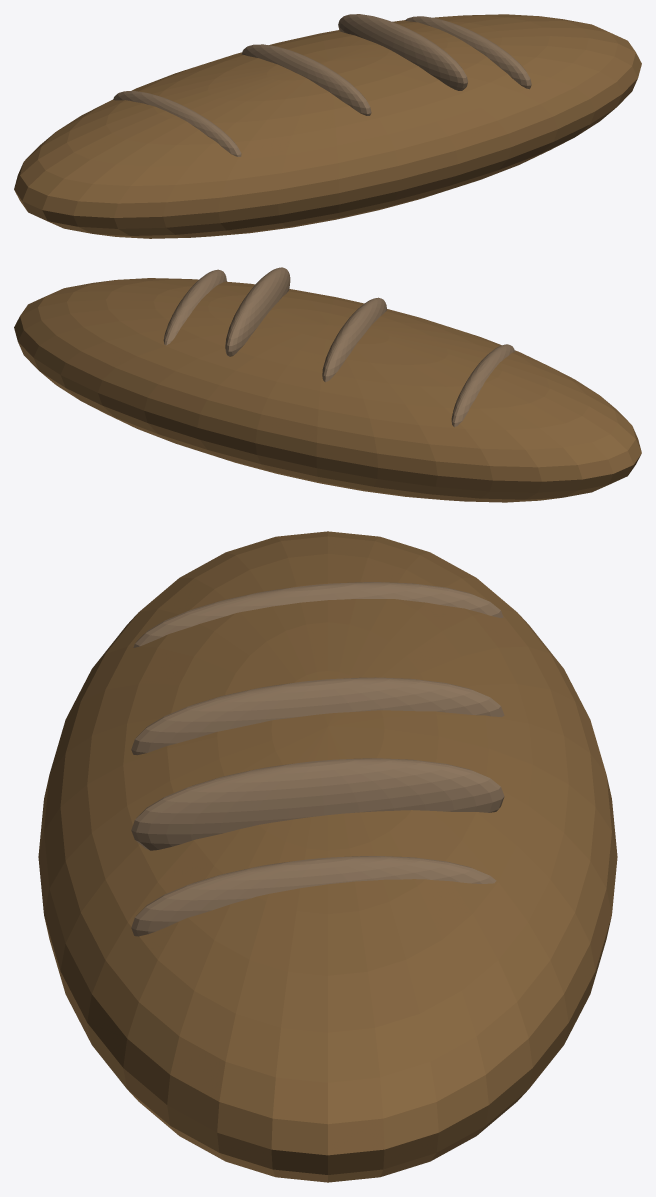
Rendered from bread.glb.
The picture shows the model from 3 angles, top to bottom: view 1: azimuth 30°, elevation 25°; view 2: azimuth 150°, elevation 25°; view 3: azimuth 270°, elevation 25°; orthographic projection. The views are drawn at different scales.
Visible parts, largest first — view 1: Sphere.004; view 2: Sphere.004; view 3: Sphere.004.
Boxes of the visible parts, x1,y1,x2,y2 form: Sphere.004: [14, 14, 641, 238]; Sphere.004: [14, 267, 641, 502]; Sphere.004: [38, 531, 617, 1182].
Size of the model in its own units: 0.9631 by 0.2226 by 0.395.
